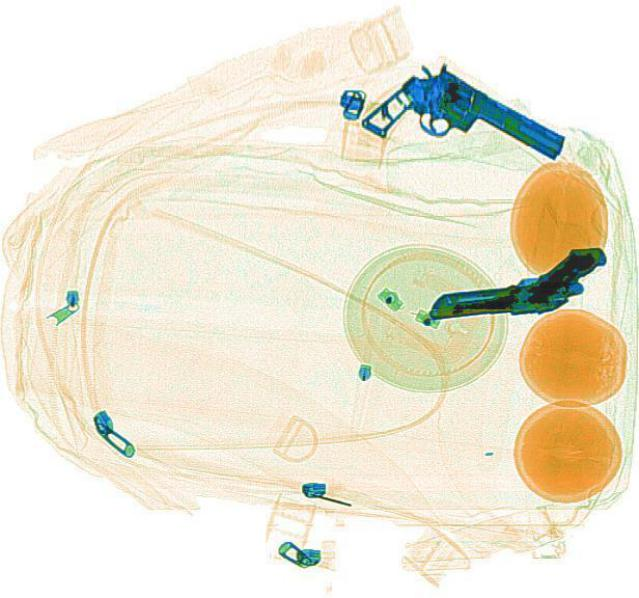Gun: (357, 46, 574, 211), (427, 246, 608, 316)
